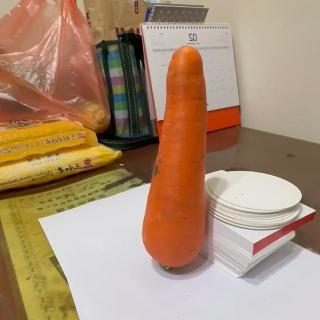carrot: (138, 48, 210, 274)
